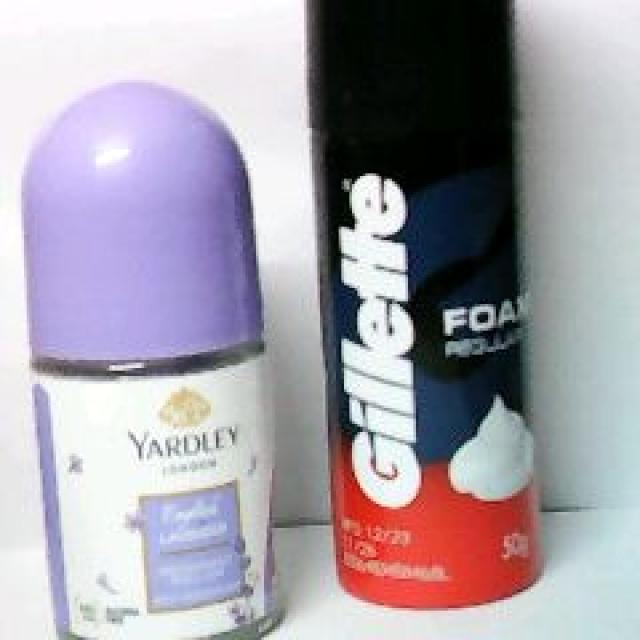gillette-foam: (309, 0, 544, 611)
yardley_rollon: (21, 77, 280, 637)
